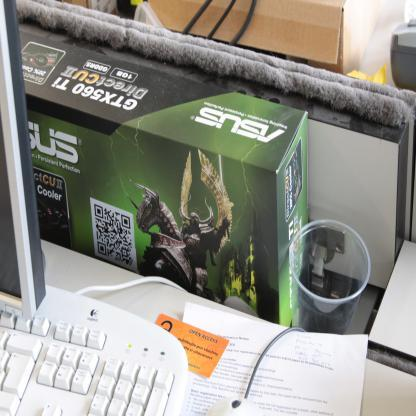qr_code: (94, 203, 133, 269)
